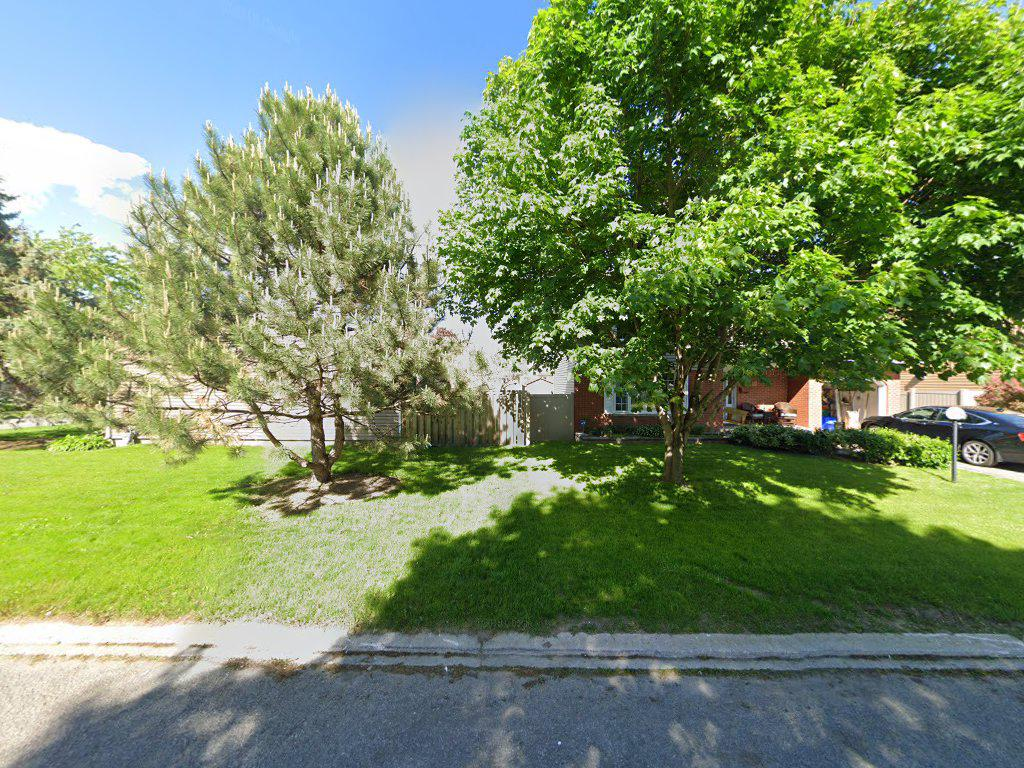trunk: (659, 376, 689, 495), (304, 381, 333, 486)
